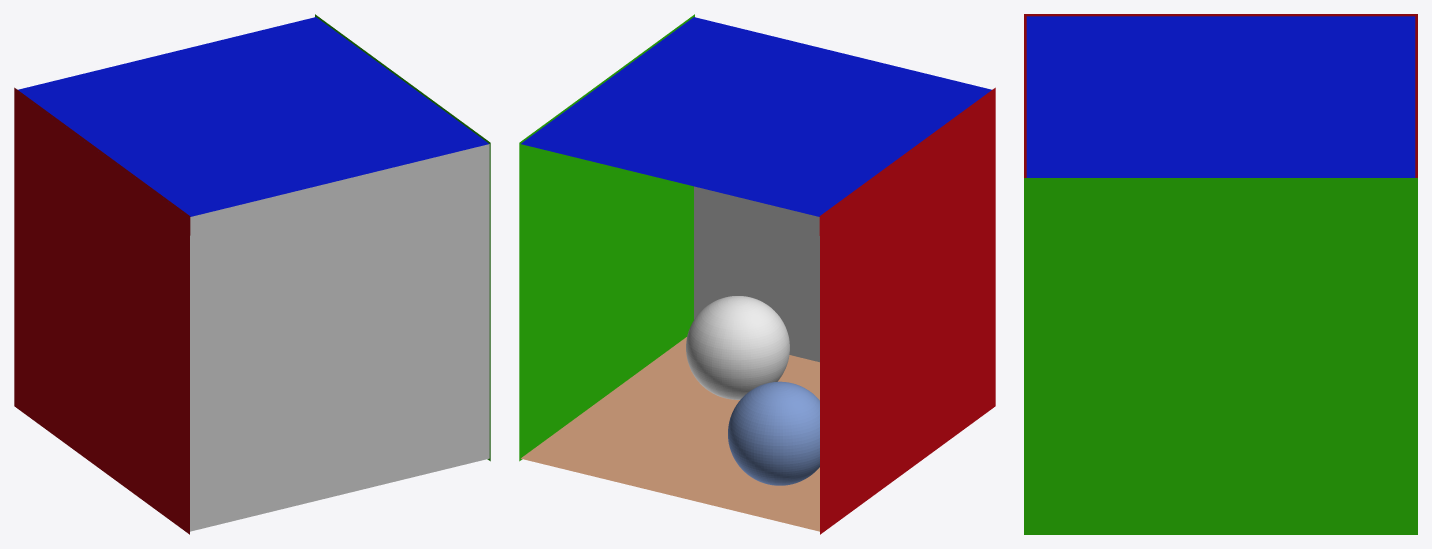
File: cornell_box.dae
3 views of the same model, side by side, from view 1: azimuth 30°, elevation 25°; view 2: azimuth 150°, elevation 25°; view 3: azimuth 270°, elevation 25° (orthographic). The views are drawn at different scales.
Visible parts, largest first — view 1: Plane_003, Plane_001, Plane_002, Plane_000; view 2: Plane_001, Plane_002, Plane_000, Plane_004, Plane_003, Sphere, Sphere_001; view 3: Plane_000, Plane_002, Plane_001.
Boxes of the visible parts, bbox=[...] form: Plane_003: bbox=[190, 144, 489, 531]; Plane_001: bbox=[14, 87, 190, 534]; Plane_002: bbox=[18, 17, 488, 216]; Plane_000: bbox=[315, 14, 490, 461]; Plane_001: bbox=[819, 87, 995, 534]; Plane_002: bbox=[521, 17, 991, 216]; Plane_000: bbox=[519, 14, 694, 461]; Plane_004: bbox=[521, 337, 819, 531]; Plane_003: bbox=[694, 186, 819, 362]; Sphere: bbox=[686, 296, 789, 399]; Sphere_001: bbox=[728, 381, 819, 485]; Plane_000: bbox=[1024, 178, 1417, 534]; Plane_002: bbox=[1026, 16, 1415, 177]; Plane_001: bbox=[1024, 14, 1417, 177].
Size of the model in its own units: 2 by 2.03 by 2.03.
